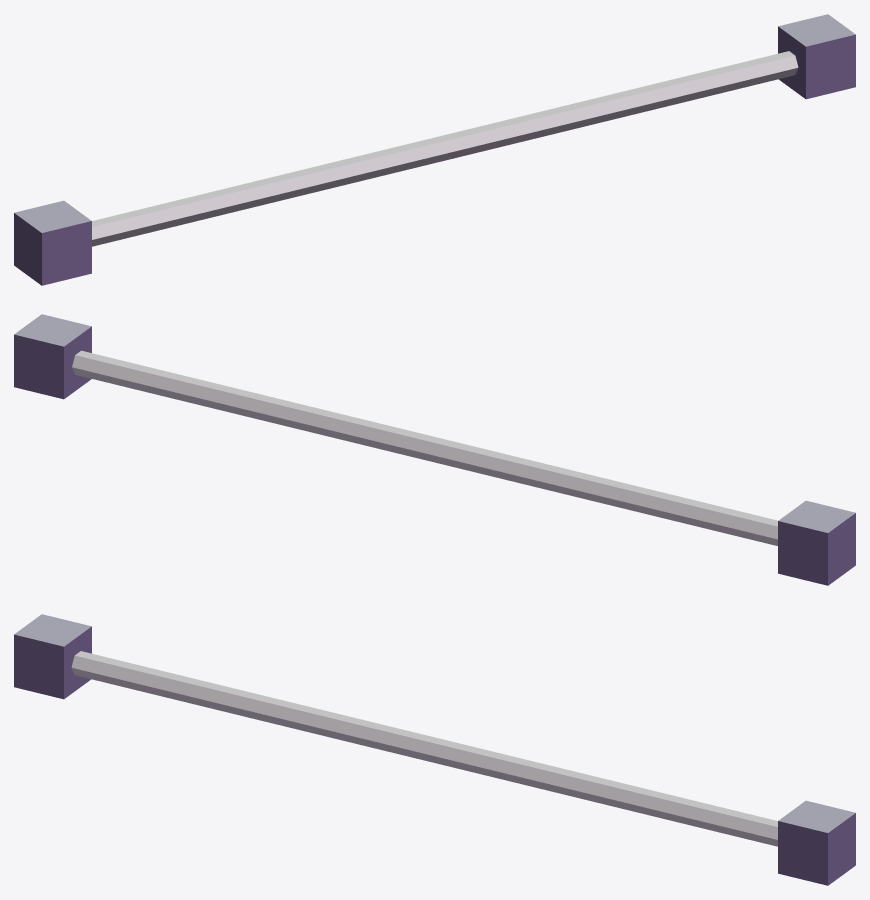
File: claw_rail.glb
3 views of the same model, one above another, from view 1: azimuth 30°, elevation 25°; view 2: azimuth 150°, elevation 25°; view 3: azimuth 330°, elevation 25° (orthographic).
Parts seen in each view (by area): view 1: claw_rail; view 2: claw_rail; view 3: claw_rail.
Part boxes in pixels (x1,y1,x2,y2): claw_rail: (14,14,855,285); claw_rail: (14,314,855,585); claw_rail: (14,614,855,885).
Bounding box in the file's own units: 11.44 × 0.7074 × 0.6783.
